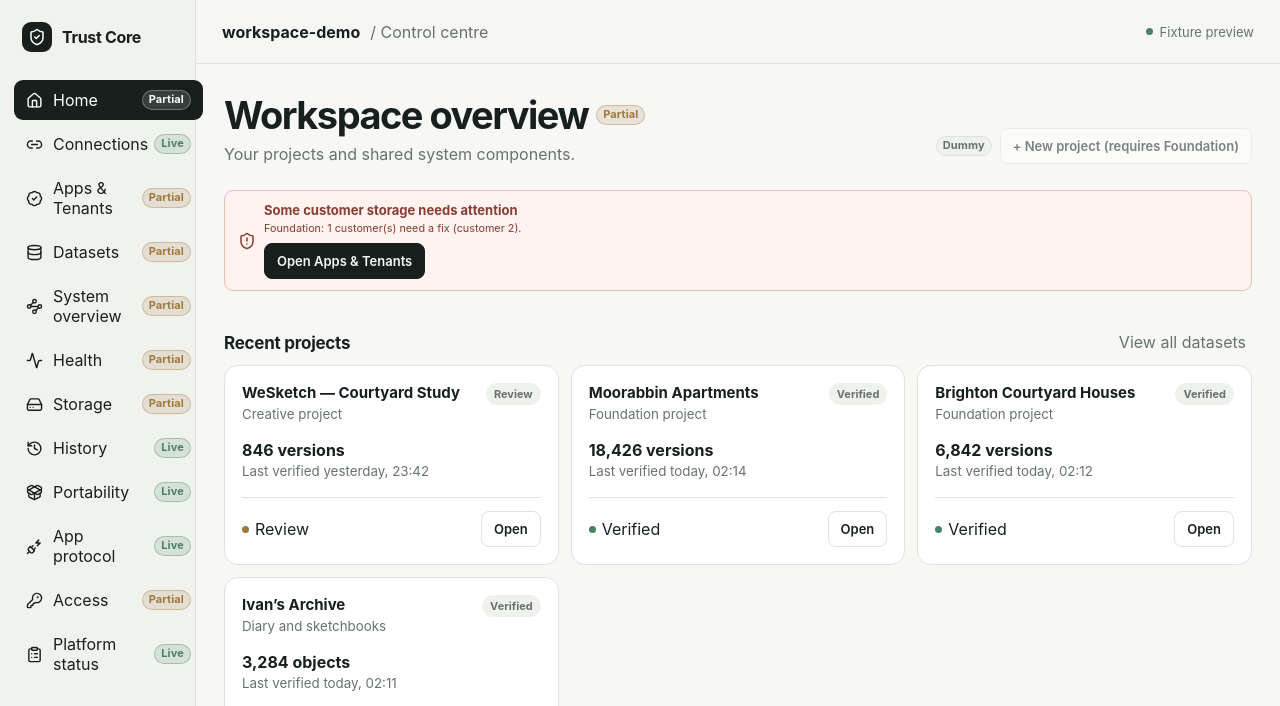
Test case: Trust Core Control Centre › relabels dummy project and export controls with owning-system copy
The width and height of the screenshot is (1280, 706).
Expected: the heading "Workspace overview" is shown, [224,92,588,138]
Expected: the button "+ New project (requires Foundation)" is disabled, [1000,128,1252,164]
Click the button "Datasets Partial".
click(108, 252)  # box [14,232,203,272]
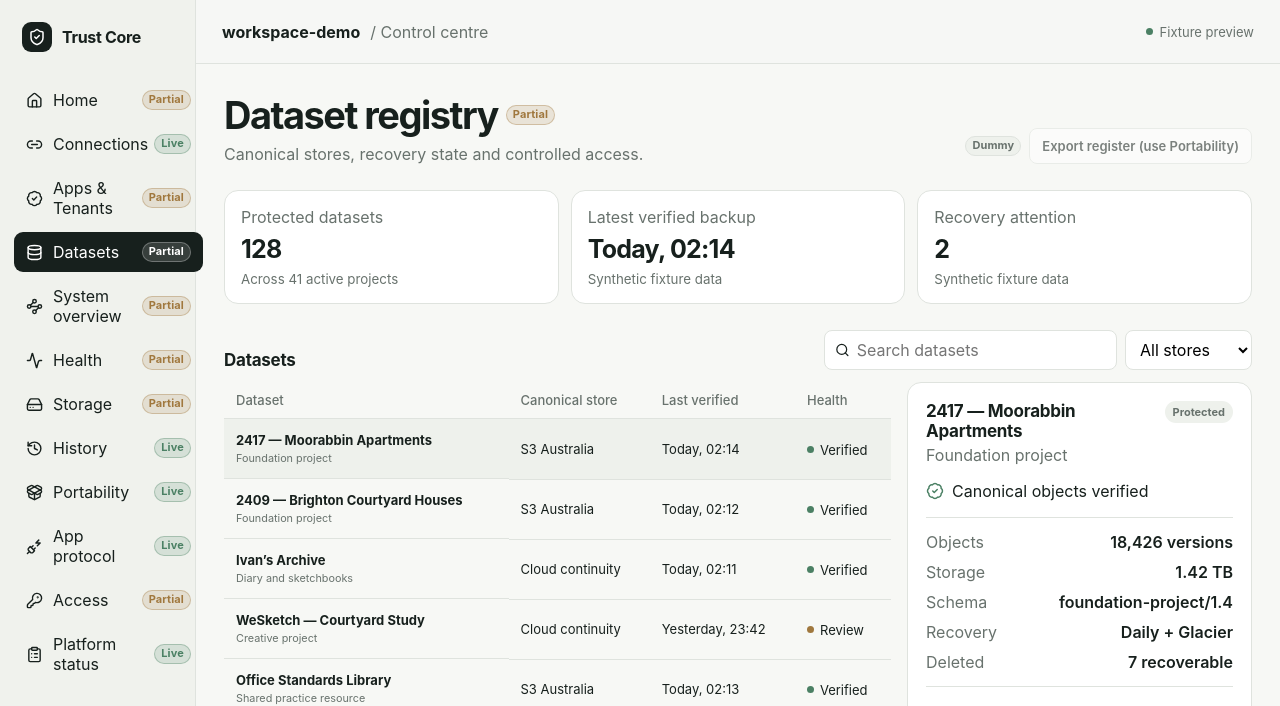
Expected: the button "Export register (use Portability)" is disabled, [1029,128,1252,164]
